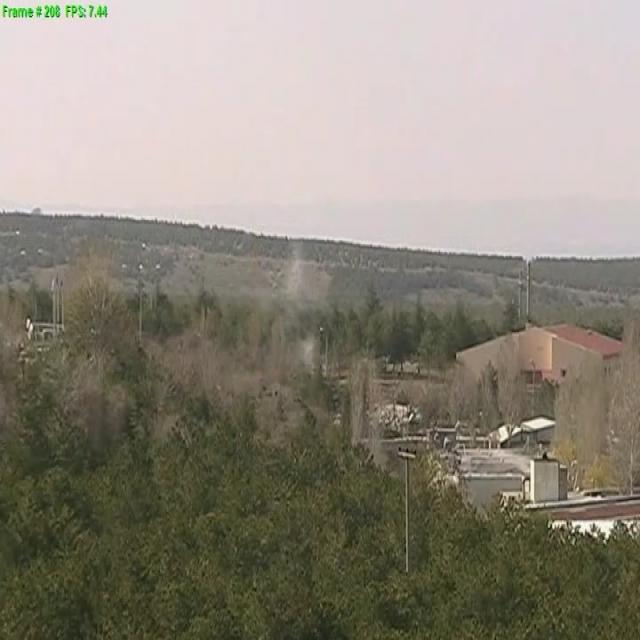smoke: (281, 255, 336, 380)
